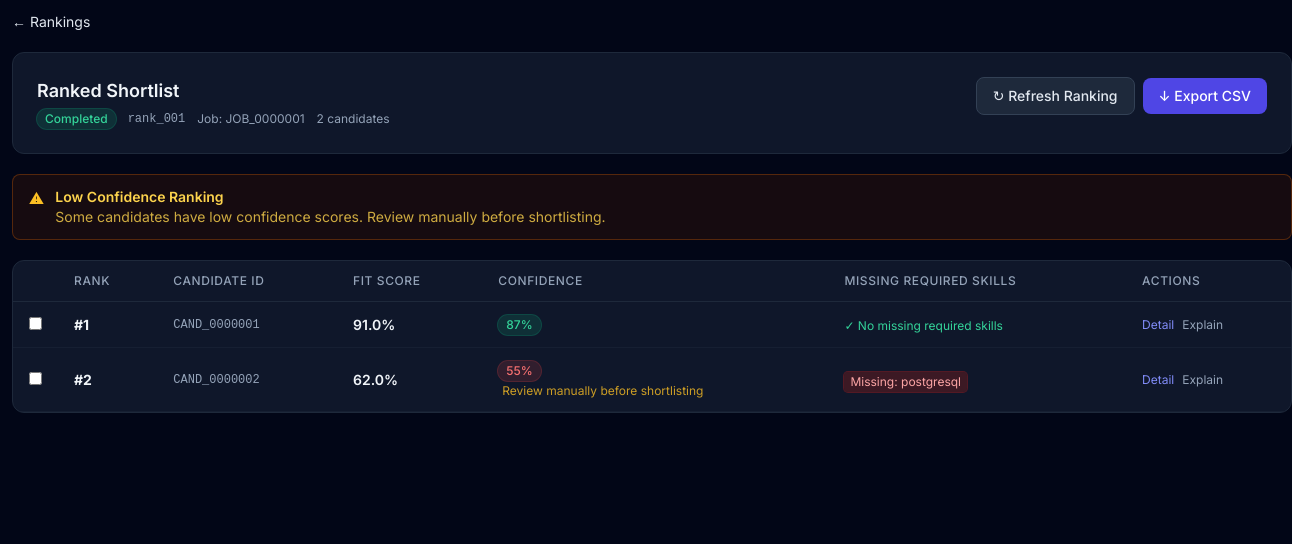
RankedShortlistPage › shows error when export returns 503 EXPORT_GENERATION_FAILED
Expected: the text "91.0%" is shown, x1=353 y1=316 x2=395 y2=332
Click the button "↓ Export CSV". click: [1205, 96]
box: x1=1142 y1=78 x2=1267 y2=114
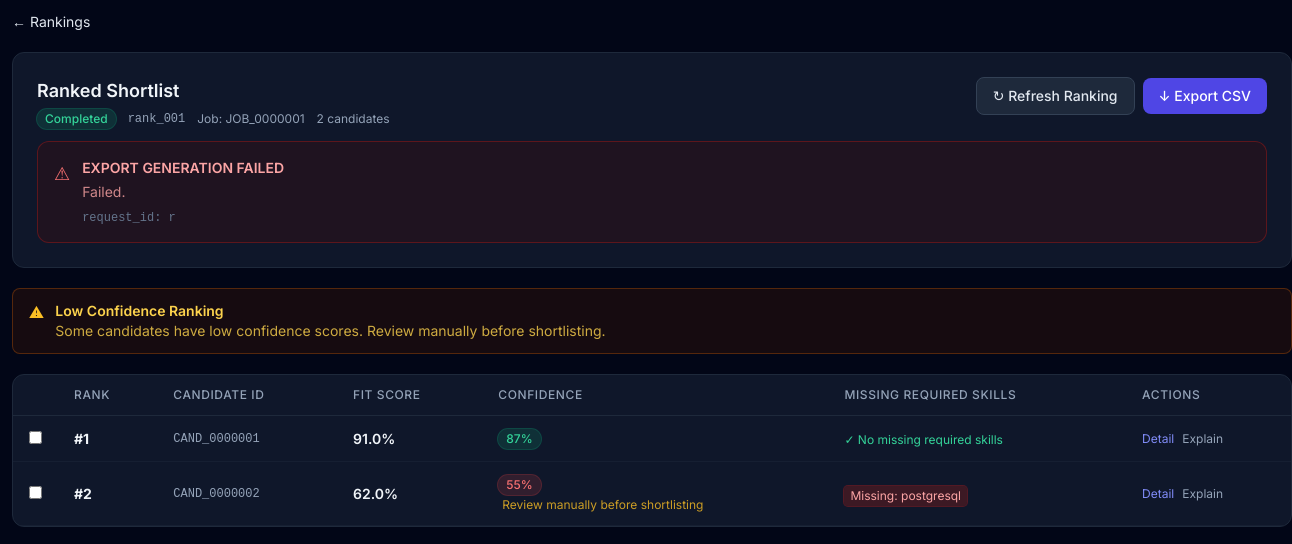
Now the message "⚠ EXPORT GENERATION FAILED Failed. request_id: r" is shown, box x1=37 y1=141 x2=1267 y2=243
